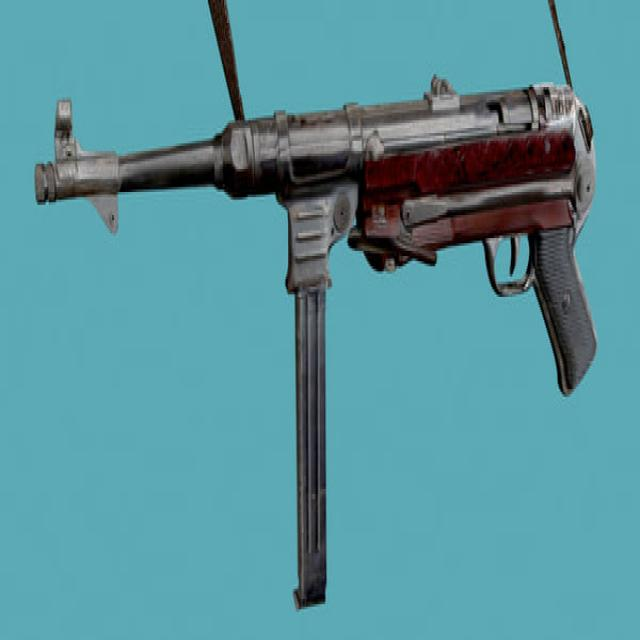SMG: (34, 77, 598, 612)
